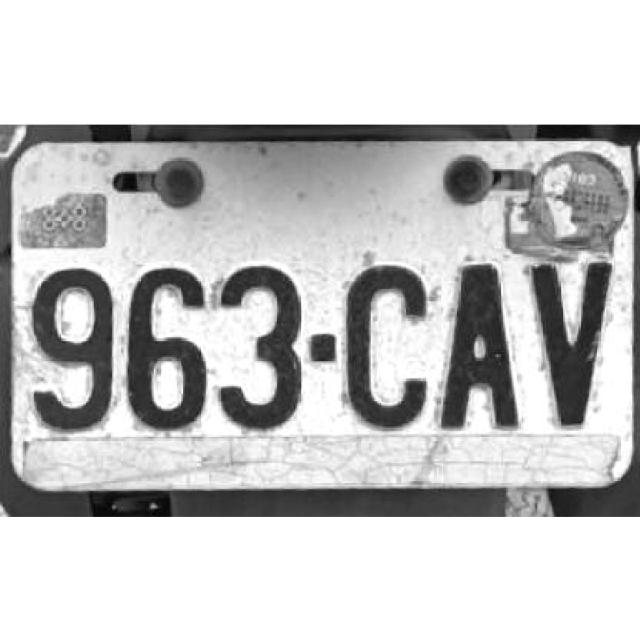-: (312, 332, 338, 363)
3: (216, 262, 304, 428)
6: (126, 266, 209, 431)
9: (31, 268, 118, 432)
A: (440, 263, 520, 437)
C: (343, 260, 429, 435)
V: (530, 258, 616, 428)
